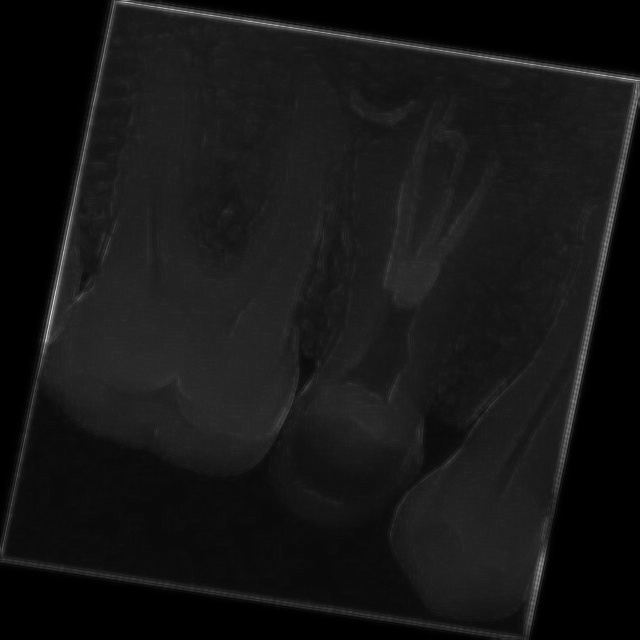Class 1- complete endodontic treatment: (190, 28, 559, 575)
cavity: (18, 7, 379, 519)
